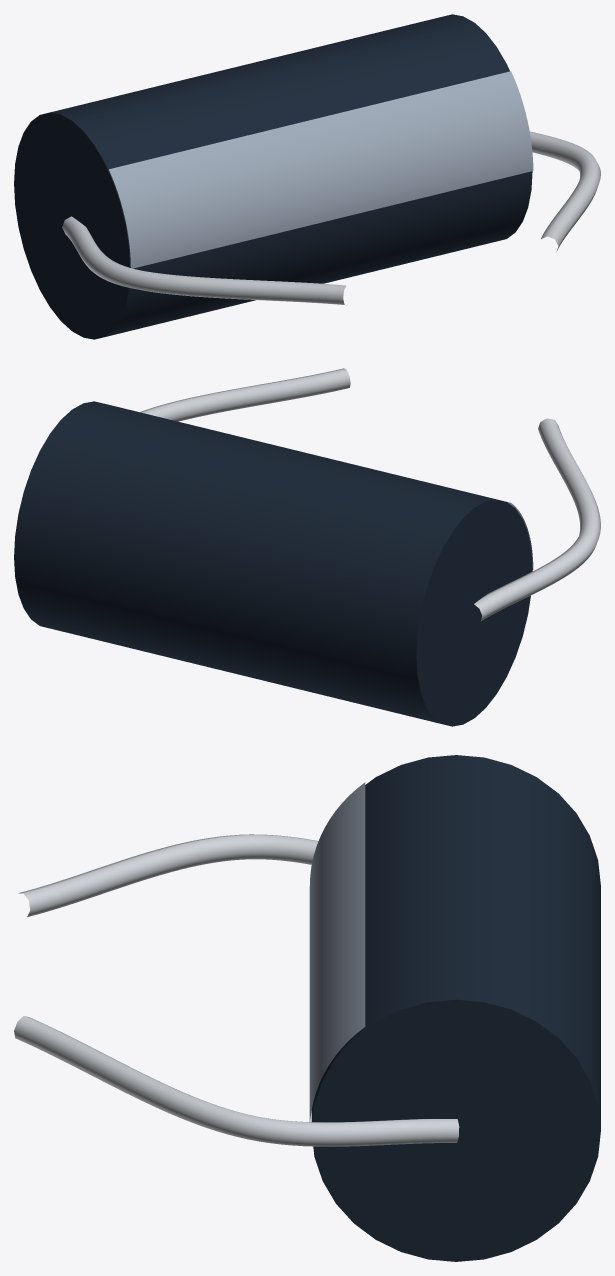
File: cap.glb
3 views of the same model, one above another, from view 1: azimuth 30°, elevation 25°; view 2: azimuth 150°, elevation 25°; view 3: azimuth 270°, elevation 25° (orthographic). The views are drawn at different scales.
Visible parts, largest first — view 1: Capacitor can, Polarity stripe, Capacitor leg (×2); view 2: Capacitor can, Capacitor leg (×2); view 3: Capacitor can, Capacitor leg (×2), Polarity stripe.
Part boxes in pixels (x1,y1,x2,y2): Capacitor can: (14, 14, 532, 339); Polarity stripe: (109, 71, 533, 268); Capacitor leg (×2): (62, 131, 600, 305); Capacitor can: (14, 401, 532, 726); Capacitor leg (×2): (140, 368, 600, 620); Capacitor can: (311, 755, 600, 1261); Capacitor leg (×2): (14, 834, 459, 1146); Polarity stripe: (309, 782, 365, 1121).
Bounding box in the file's own units: 0.0241 × 0.01 × 0.0203.
